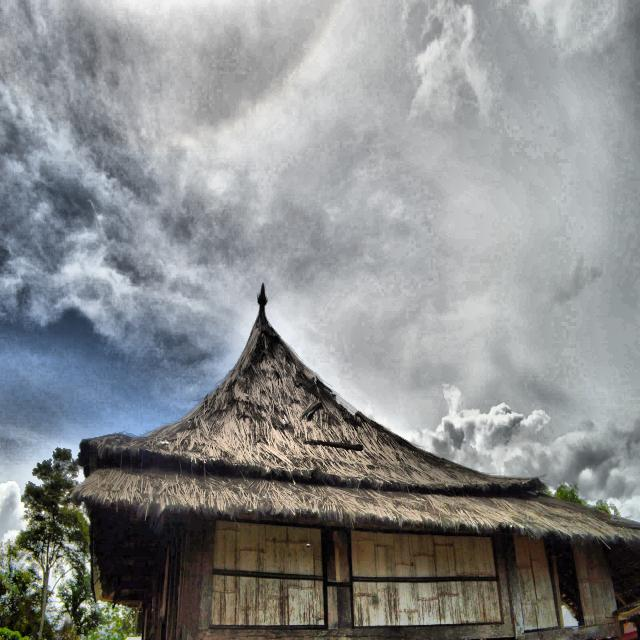roof: (70, 283, 640, 538)
wall: (142, 516, 619, 640)
window: (322, 530, 352, 582)
